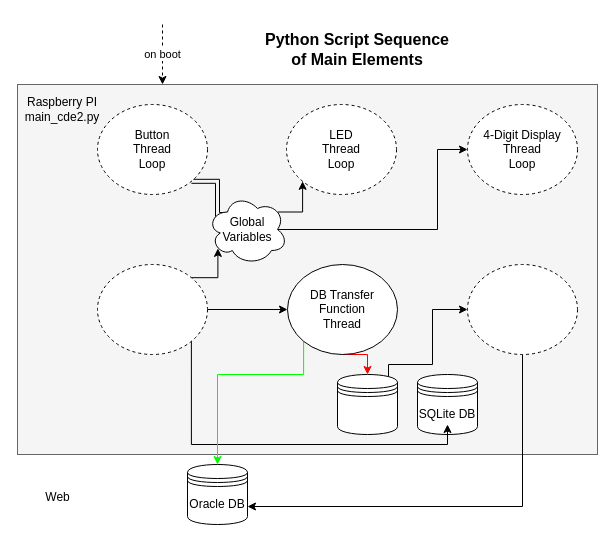
This 615x542 diagram has some shape labels left out. Here are the shapes that lost their labels. From the top down, the box of each, then its label:
(96, 264, 208, 354): SCD30 Sensor Thread Loop
(466, 264, 578, 354): DB Transfer Retry Thread Loop
(336, 374, 398, 434): Temp. SQLite DB
